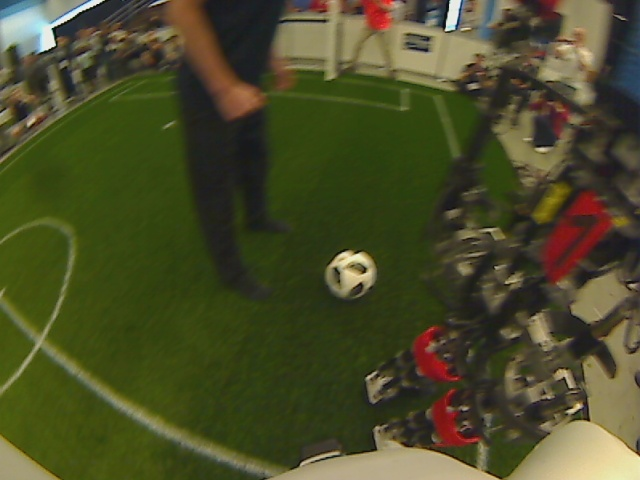ball: (324, 249, 377, 302)
